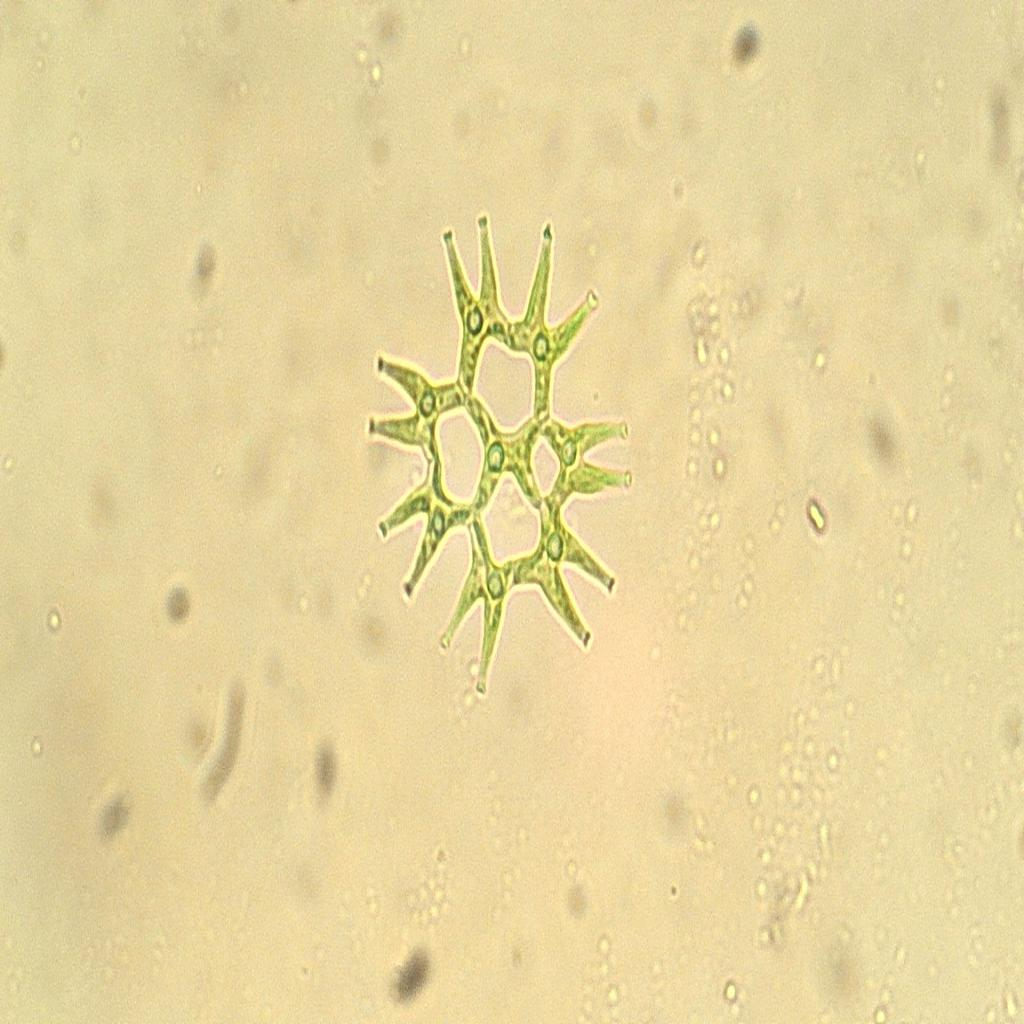Pediastrum_CTH: (361, 201, 656, 708)
